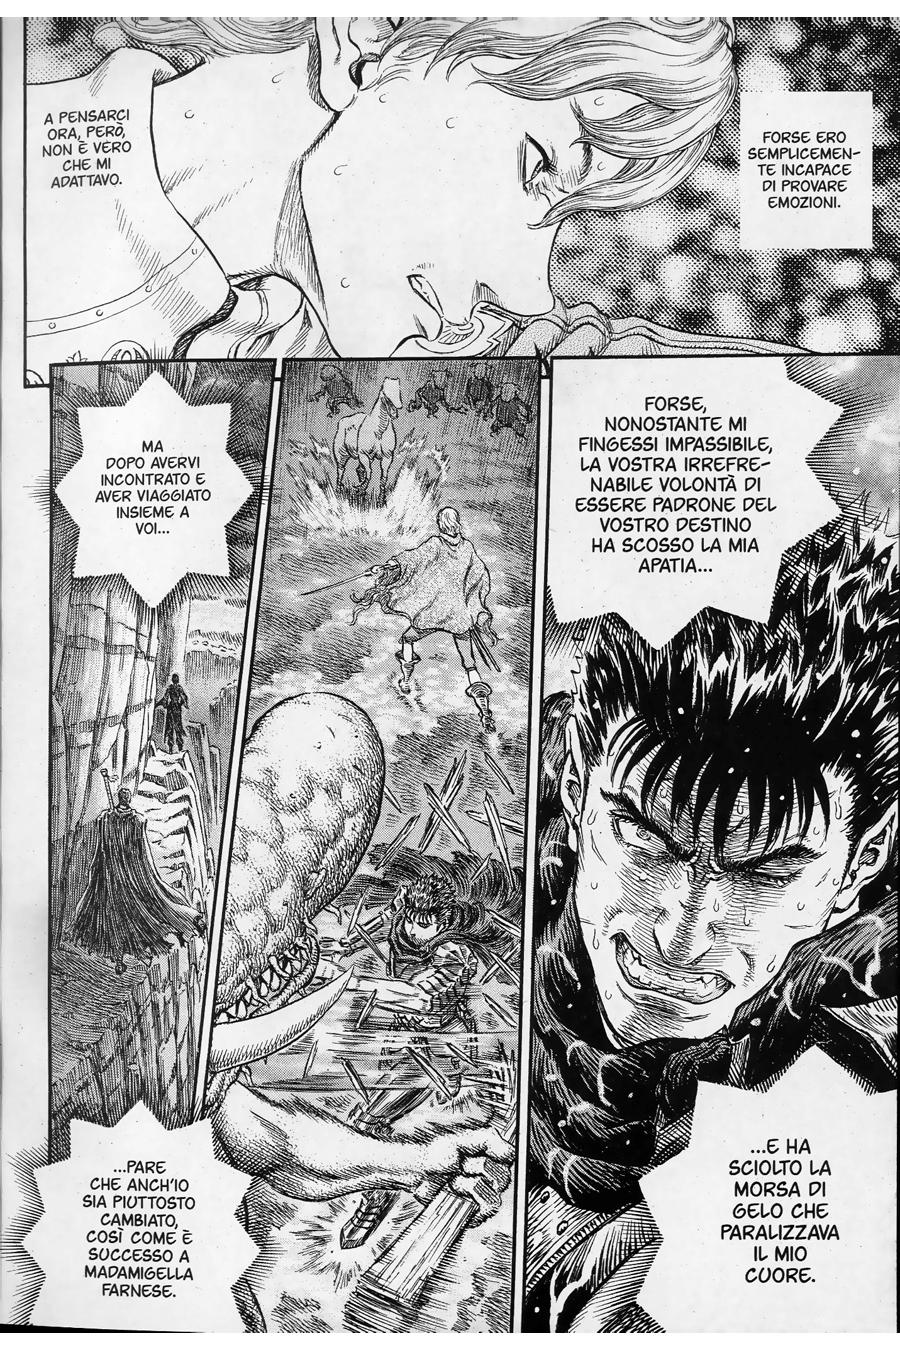Baloon: (549, 358, 846, 646), (642, 1062, 900, 1339), (22, 1099, 263, 1338), (55, 368, 259, 607), (742, 89, 873, 250), (38, 103, 140, 193)
Vignetta: (524, 356, 898, 1328), (209, 356, 542, 1350), (24, 15, 900, 352), (49, 366, 277, 1175)
